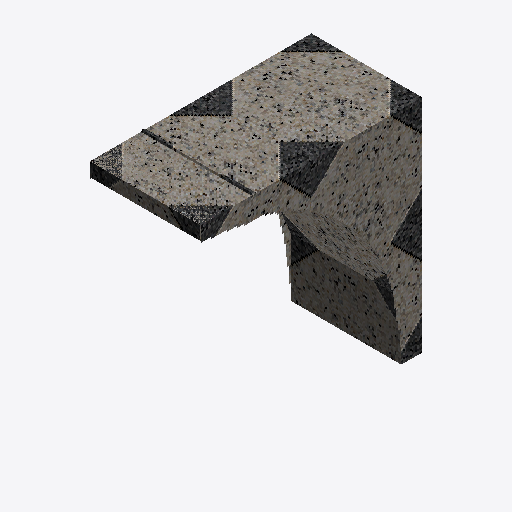
A Minecraft block model of 11 cuboids, rendered isometrically (azimuth 45°, elevation 35.3°) with the resource pack's own textures.
Parts seen in each view (by area): element 1, element 3, element 2, element 6, element 7, element 10, element 9.
Part boxes in pixels (left/top/right/bottom): element 1: left=201, top=98, right=421, bottom=363; element 3: left=201, top=33, right=421, bottom=160; element 2: left=91, top=97, right=310, bottom=224; element 6: left=291, top=234, right=400, bottom=363; element 7: left=281, top=209, right=392, bottom=291; element 10: left=90, top=134, right=239, bottom=240; element 9: left=141, top=129, right=255, bottom=194.
Size of the model in its own units: 32.05 by 32.24 by 16.